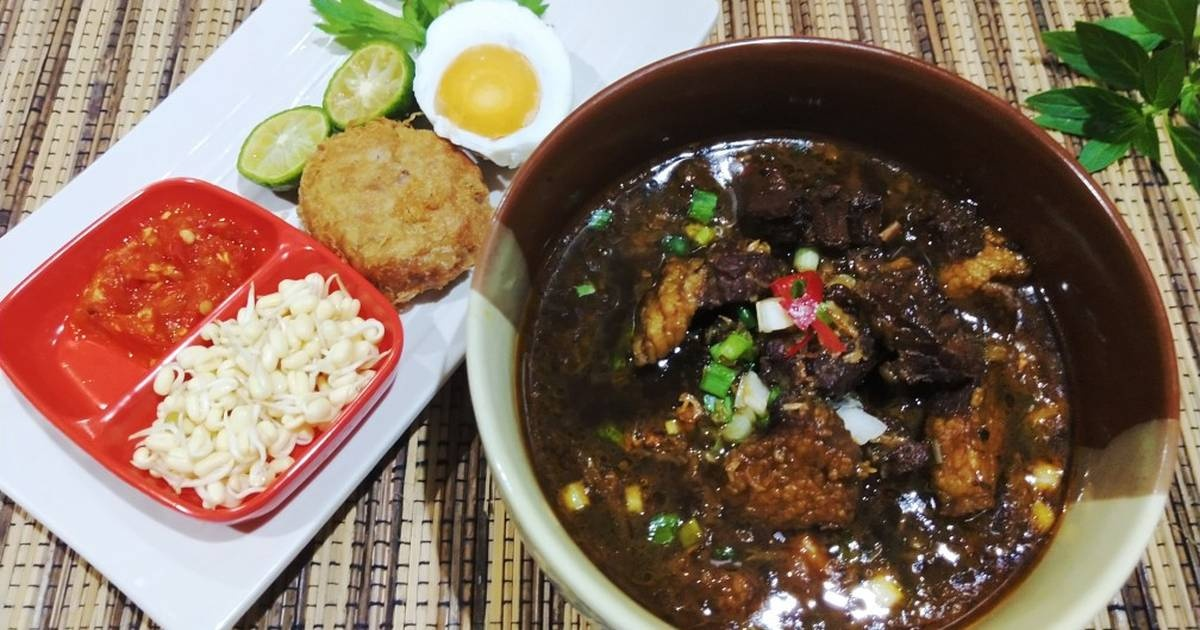rawon: (558, 111, 1057, 586)
